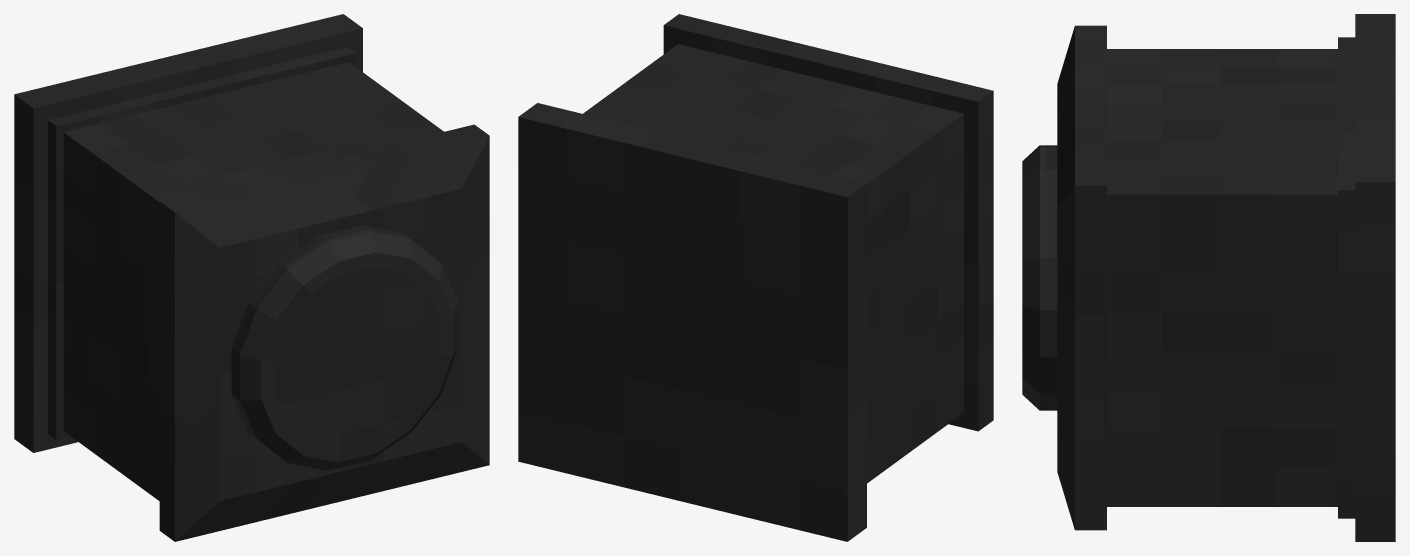
File: decopole_lawestwood_base_n.obj
3 views of the same model, side by side, from view 1: azimuth 30°, elevation 25°; view 2: azimuth 150°, elevation 25°; view 3: azimuth 270°, elevation 25° (orthographic). The views are drawn at different scales.
Visible parts, largest first — view 1: decopole_lawestwood_base_n; view 2: decopole_lawestwood_base_n; view 3: decopole_lawestwood_base_n.
Part boxes in pixels (bbox=[...]): decopole_lawestwood_base_n: bbox=[14, 14, 489, 541]; decopole_lawestwood_base_n: bbox=[518, 14, 993, 541]; decopole_lawestwood_base_n: bbox=[1022, 14, 1395, 541].
Bounding box in the file's own units: 0.85 × 0.85 × 0.7988.
